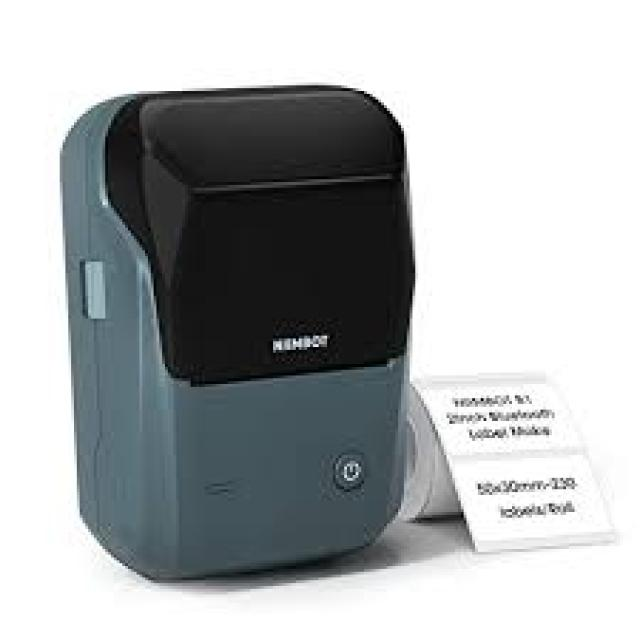printer: (57, 80, 424, 580)
